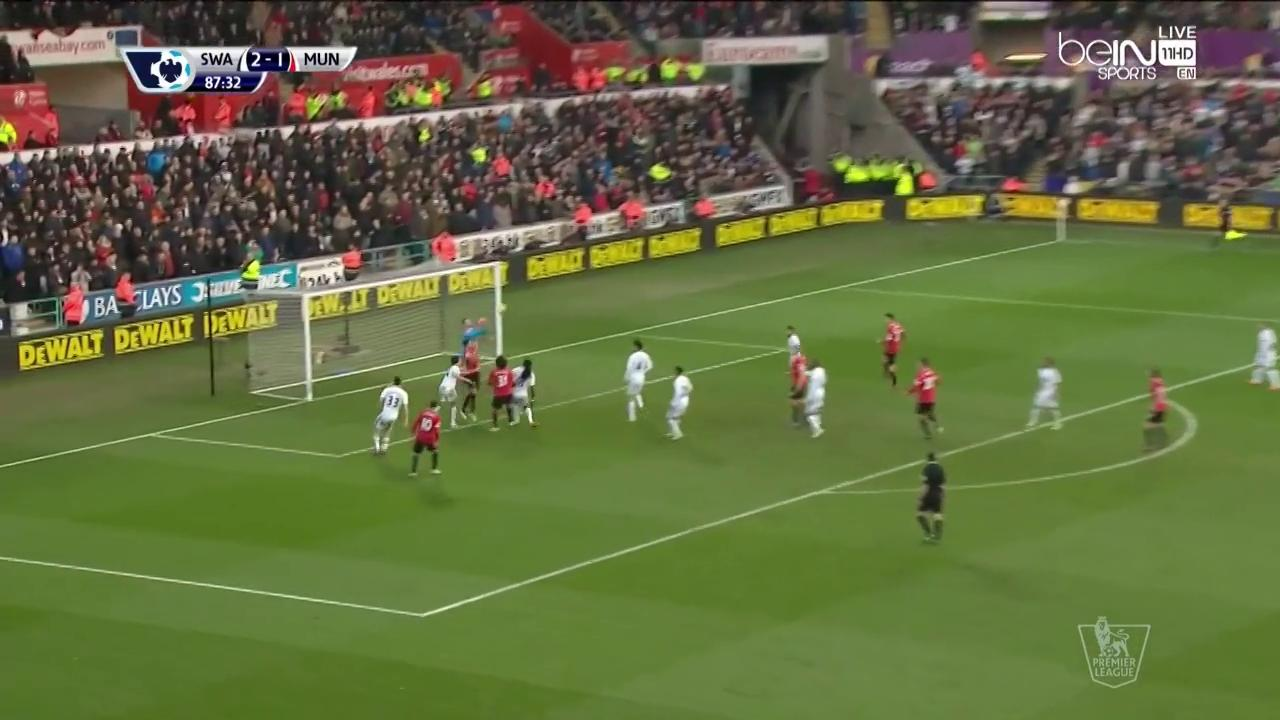football: (498, 303, 507, 313)
